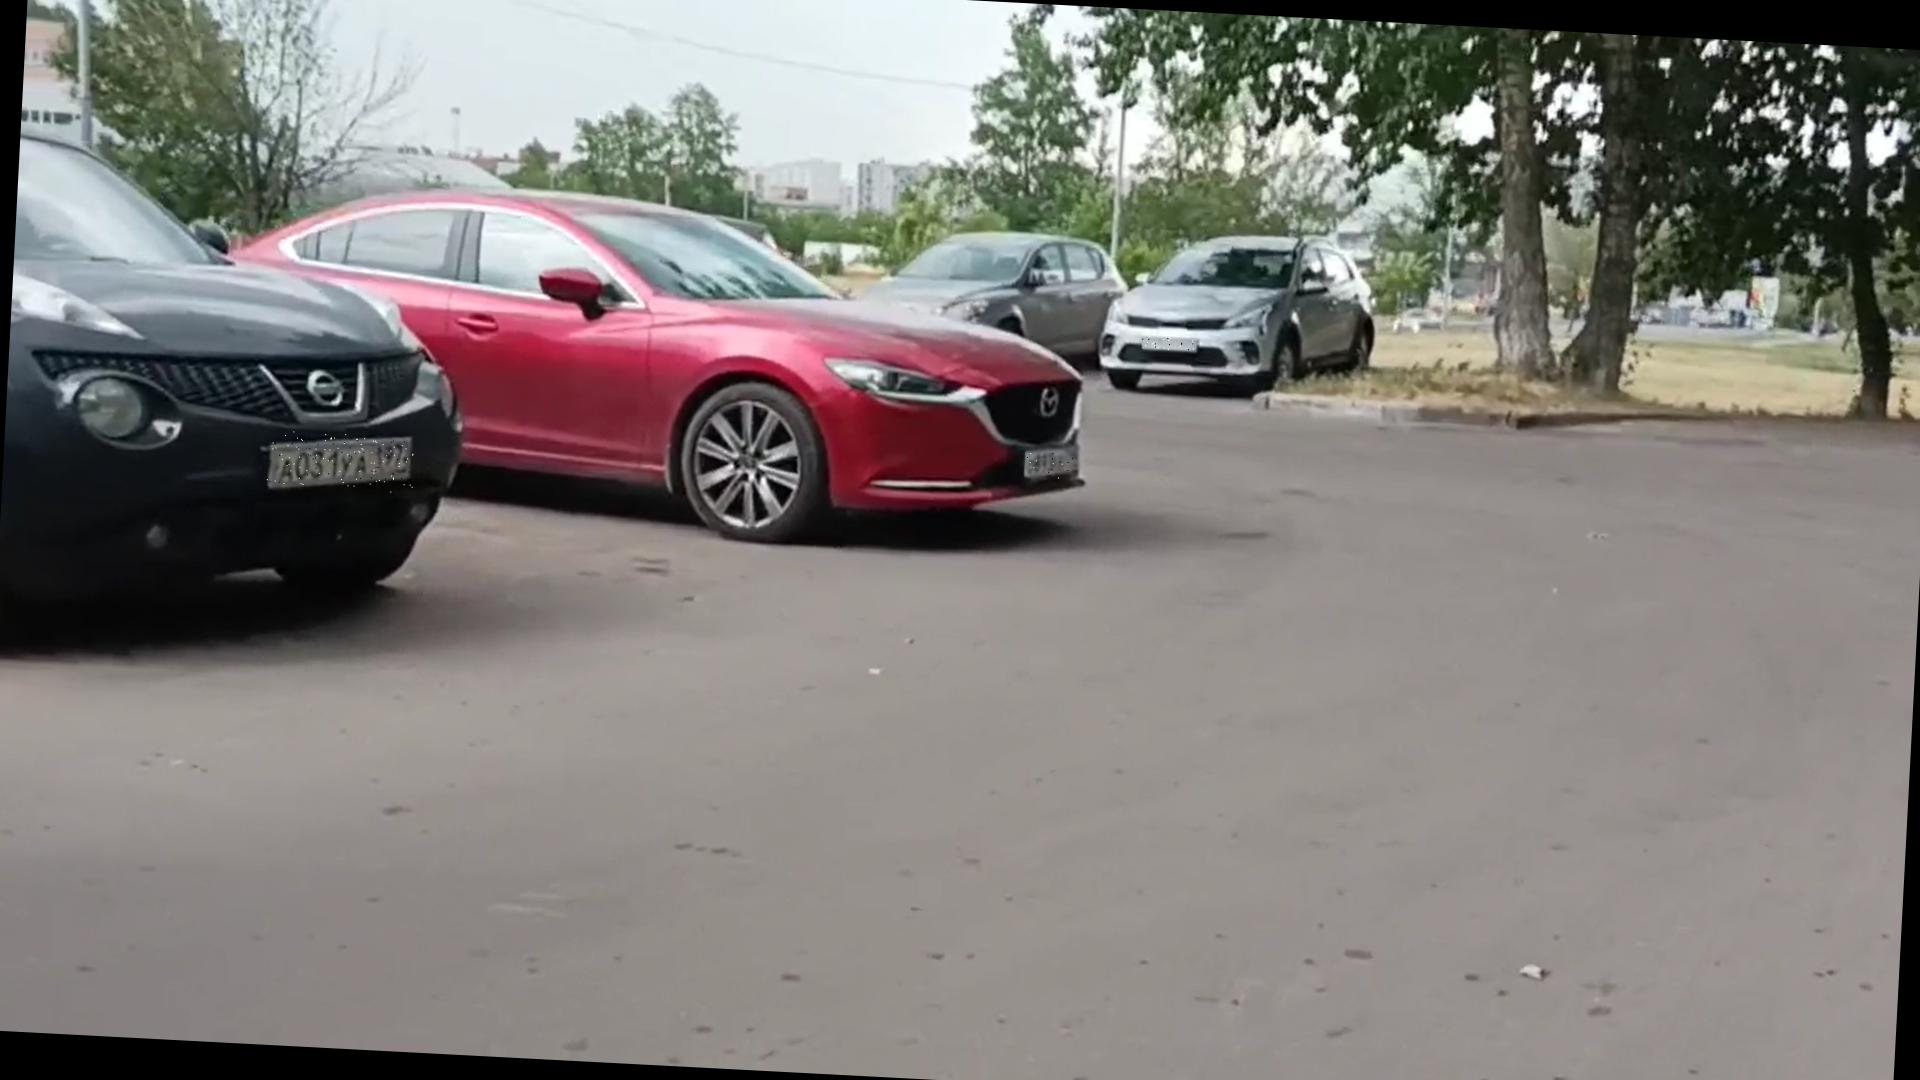plate: (268, 431, 418, 495), (1025, 447, 1077, 480), (1141, 335, 1197, 353)
